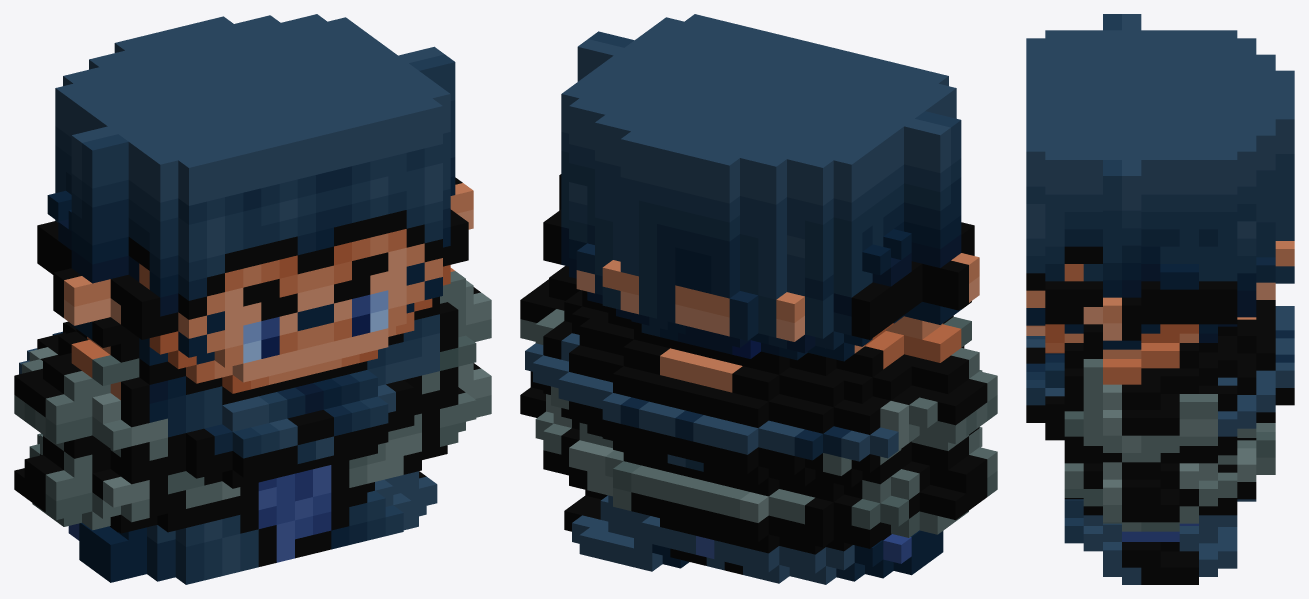
The model's file is Icon_032_01.obj.
3 views of the same model, side by side, from view 1: azimuth 30°, elevation 25°; view 2: azimuth 150°, elevation 25°; view 3: azimuth 270°, elevation 25° (orthographic). The views are drawn at different scales.
Size of the model in its own units: 2.4 by 2.4 by 1.4.
